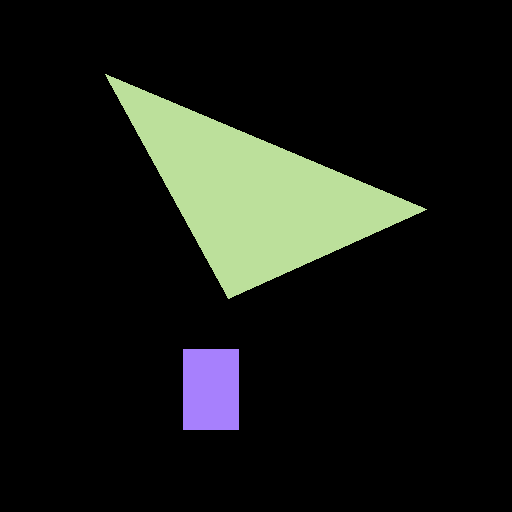rectangle: (183, 349, 238, 429)
triangle: (105, 74, 426, 298)
